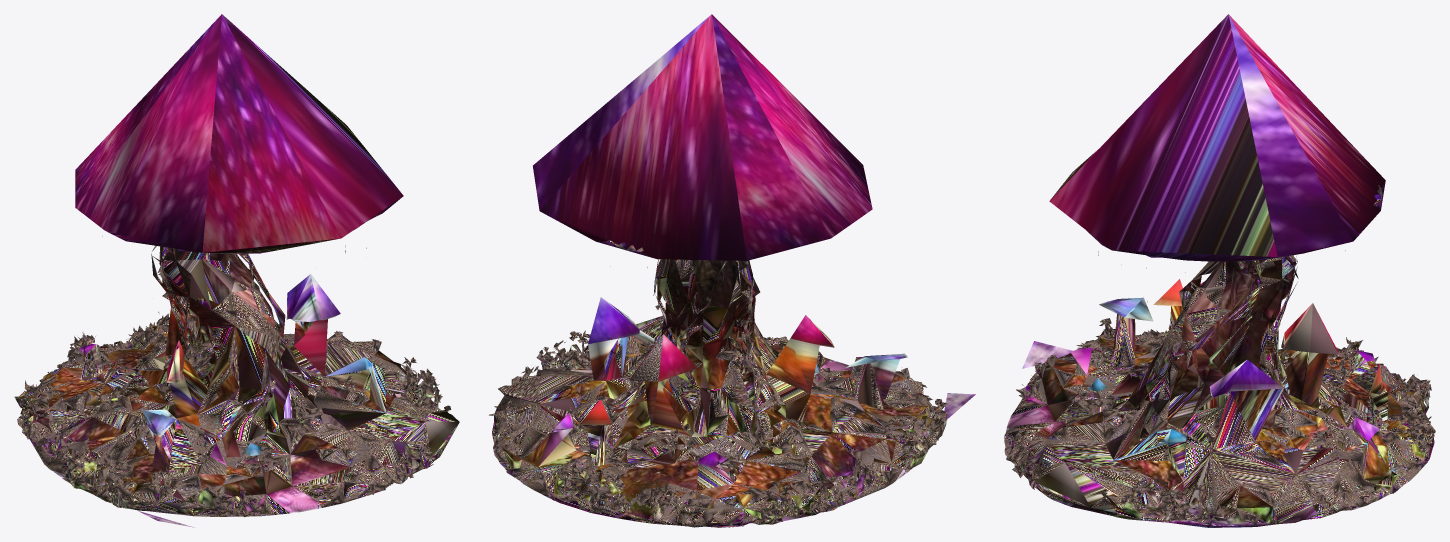
Rendered from Luminescent_Mushroom_.glb.
3 views of the same model, side by side, from view 1: azimuth 30°, elevation 25°; view 2: azimuth 150°, elevation 25°; view 3: azimuth 270°, elevation 25° (orthographic). The views are drawn at different scales.
Parts seen in each view (by area): view 1: Luminescent_Mushroom_; view 2: Luminescent_Mushroom_; view 3: Luminescent_Mushroom_.
Part boxes in pixels (x1,y1,x2,y2): Luminescent_Mushroom_: [14, 14, 459, 527]; Luminescent_Mushroom_: [489, 14, 975, 527]; Luminescent_Mushroom_: [1004, 14, 1435, 527].
Size of the model in its own units: 1.89 by 2 by 1.86.
1 material, 1 textured.
